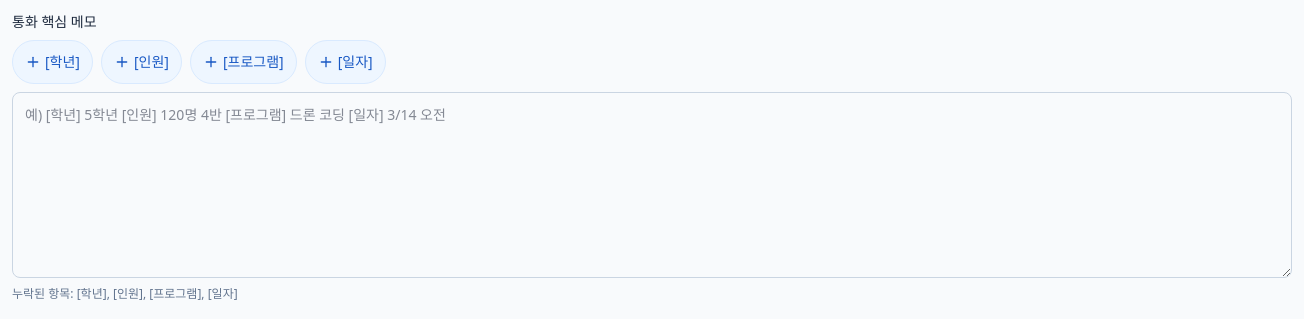
Test: ConsultationMemoField › updates the missing-items hint
Expected: the text "누락된 항목: [학년], [인원], [프로그램], [일자]" is shown, [12,285,238,302]
What coordinates should you click on to do the following:
click the button "[학년]"
I would click on:
 (52, 62)
Its box is [12,40,93,84].
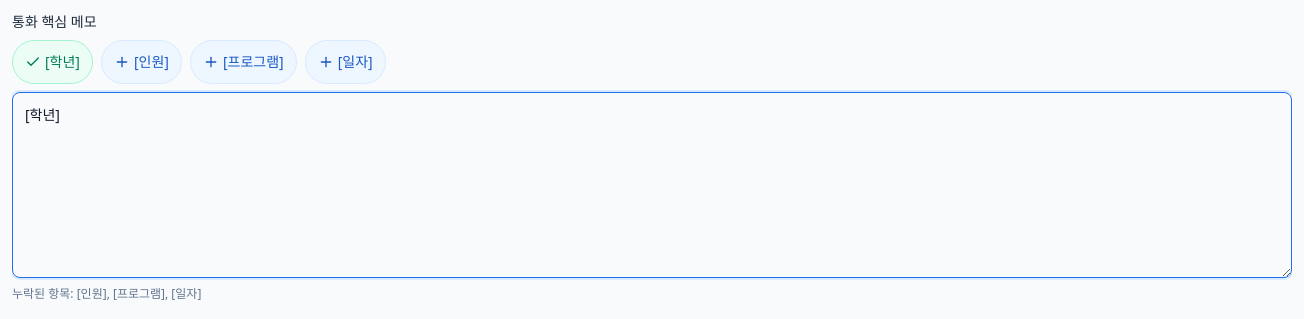
What coordinates should you click on to do the following:
click the button with aria-label "[인원] 삽입"
I would click on:
 (142, 62)
Its box is [101,40,182,84].
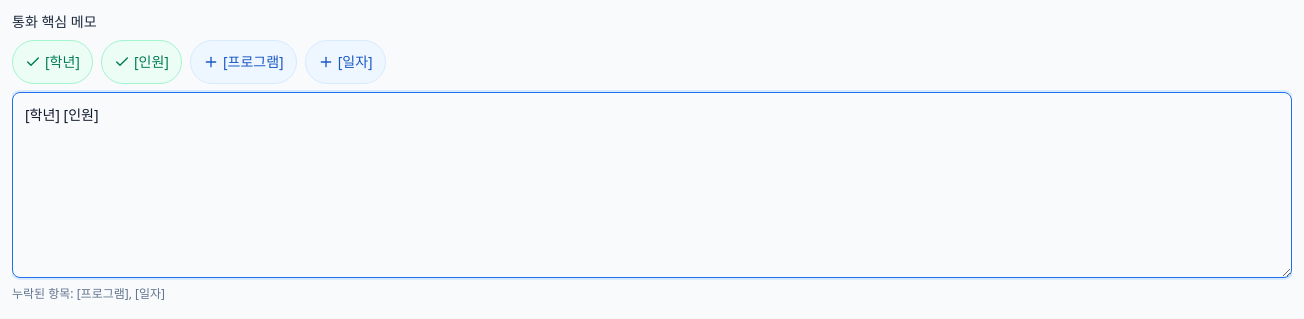
What coordinates should you click on to do the following:
click the button "[프로그램]"
I would click on:
 (243, 62)
Its box is [190,40,297,84].
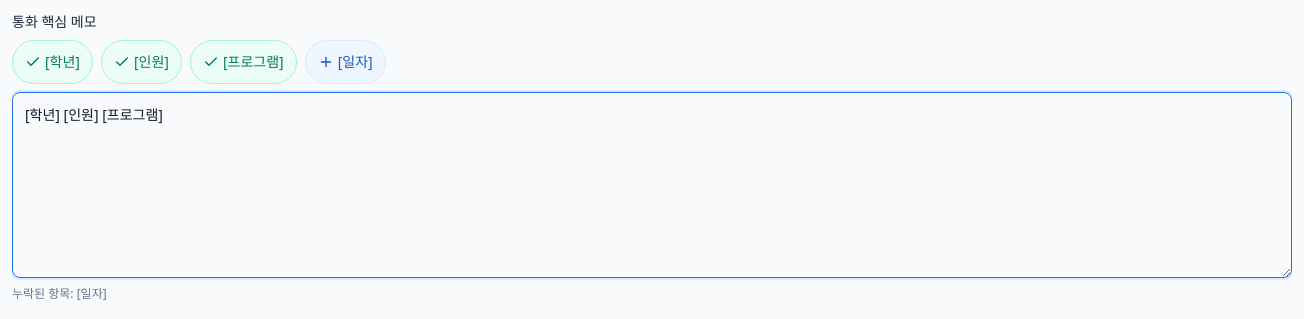
What coordinates should you click on to do the following:
click the button "[일자]"
I would click on:
 (345, 62)
Its box is [305,40,386,84].
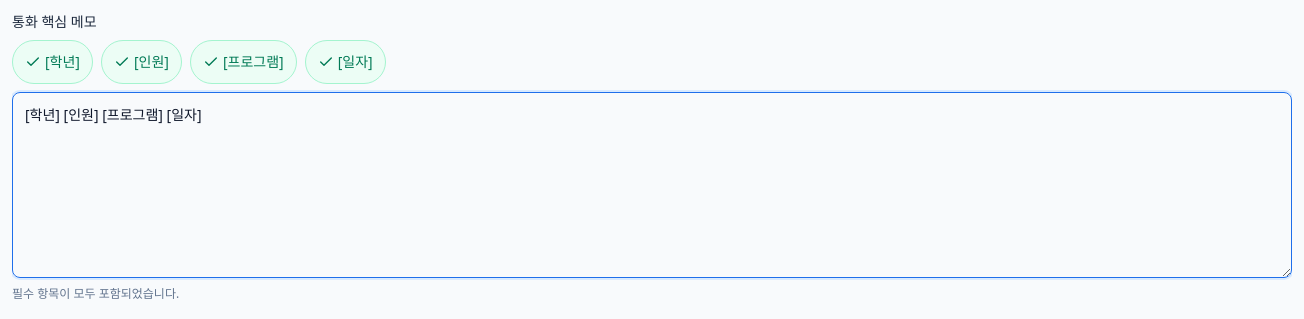
Expected: the text "필수 항목이 모두 포함되었습니다." is shown, [12,285,179,302]
